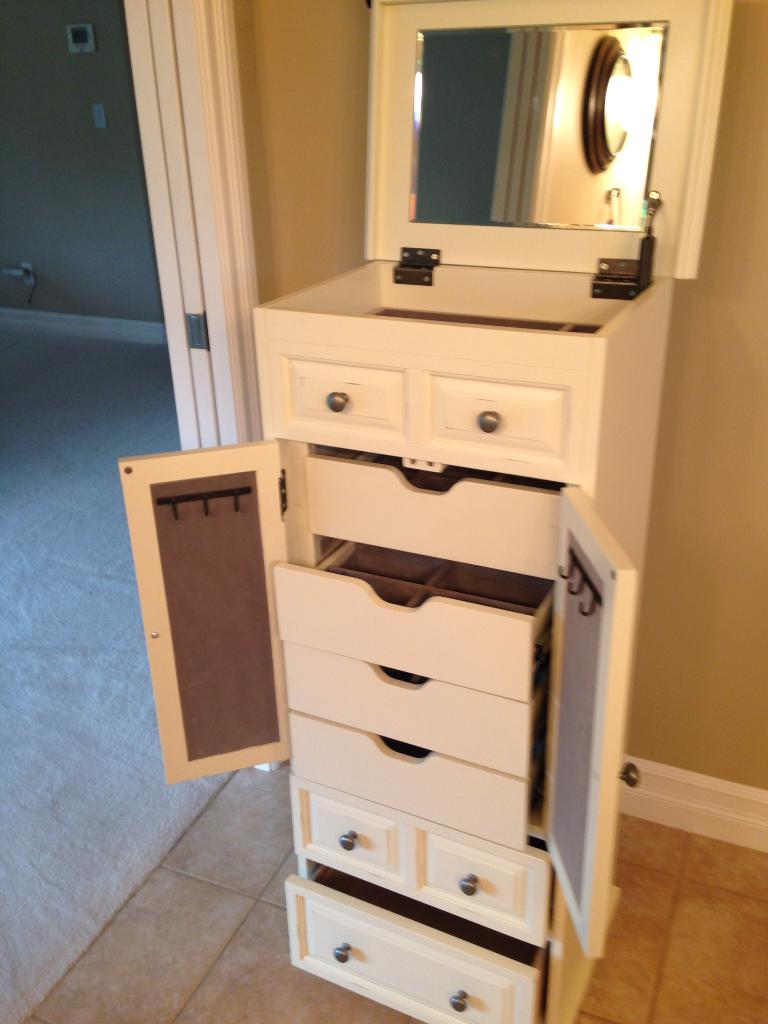cabinet door: (131, 459, 286, 759), (295, 647, 520, 765), (287, 576, 523, 686), (299, 724, 520, 838), (314, 461, 560, 556), (568, 525, 622, 912), (307, 920, 512, 1021), (429, 381, 562, 461), (305, 795, 419, 885), (427, 839, 538, 926), (293, 364, 401, 437)
handle: (370, 650, 428, 695), (375, 727, 430, 772), (367, 579, 429, 613), (406, 476, 455, 506), (322, 384, 350, 418), (455, 868, 481, 897), (335, 940, 357, 971), (475, 404, 500, 428), (335, 826, 358, 852), (452, 998, 469, 1018)
